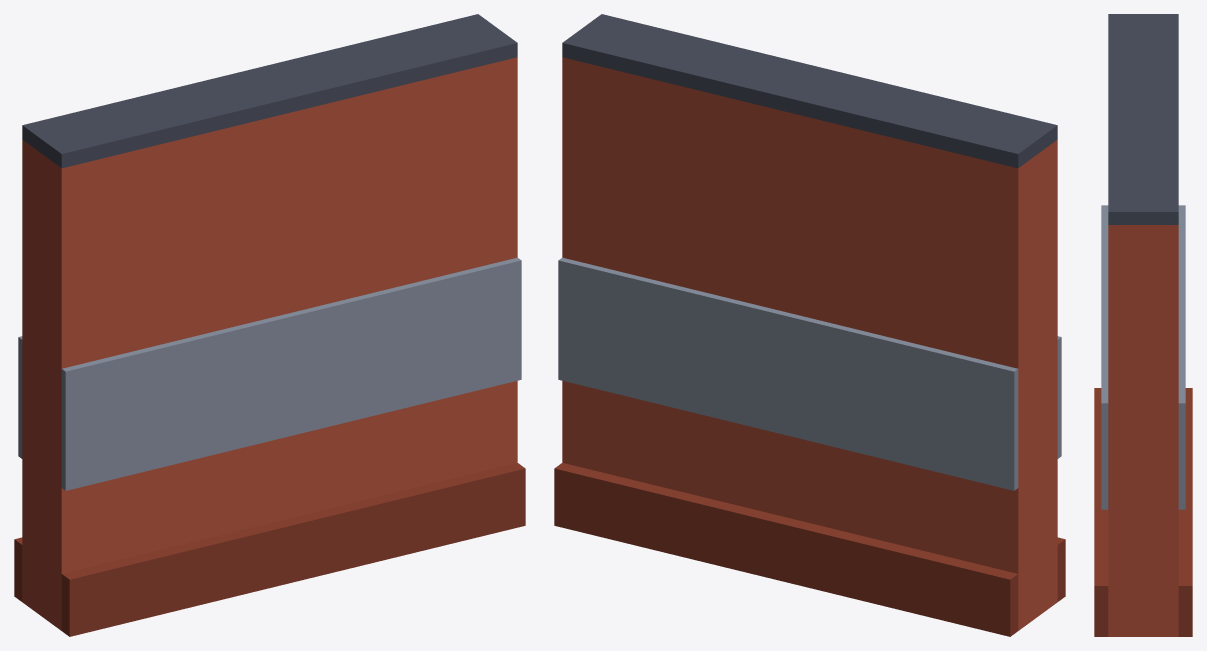
File: partition-full.glb
3 views of the same model, side by side, from view 1: azimuth 30°, elevation 25°; view 2: azimuth 150°, elevation 25°; view 3: azimuth 270°, elevation 25° (orthographic). The views are drawn at different scales.
Parts seen in each view (by area): view 1: partition-full; view 2: partition-full; view 3: partition-full.
Part boxes in pixels (x1,y1,x2,y2): partition-full: [14, 14, 525, 636]; partition-full: [554, 14, 1065, 636]; partition-full: [1094, 14, 1192, 636].
Bounding box in the file's own units: 1 × 1 × 0.21.
Materials: 1 (1 with a texture image).
